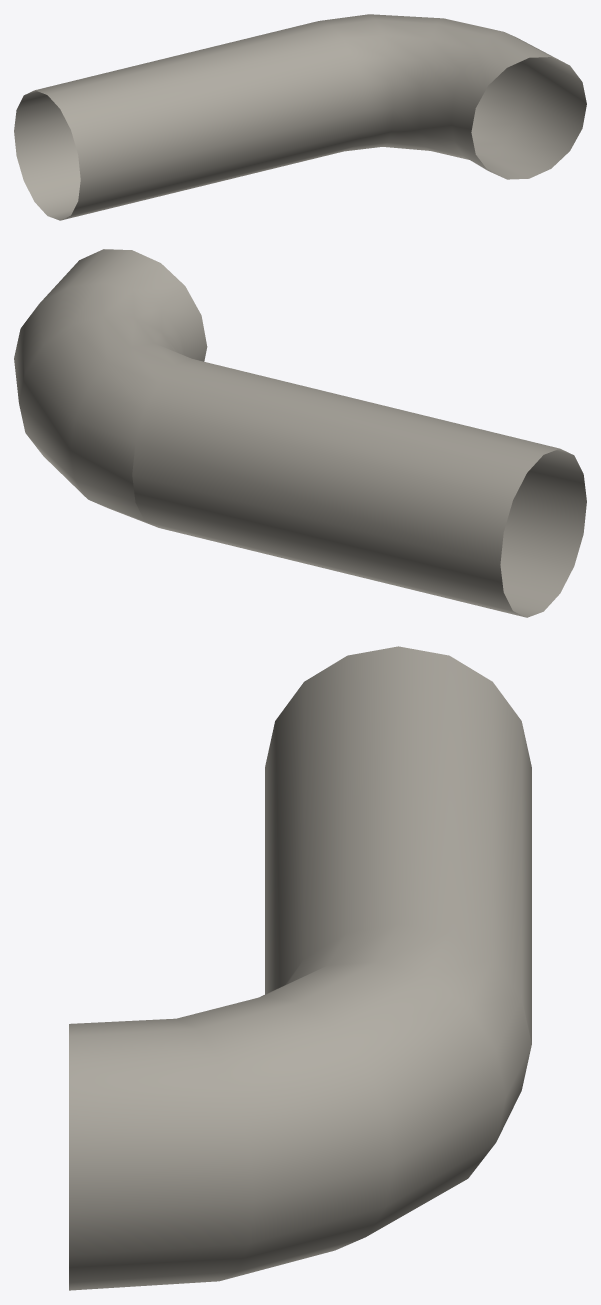
The model's file is pipe_connector_longcurve.fbx.
The picture shows the model from 3 angles, top to bottom: view 1: azimuth 30°, elevation 25°; view 2: azimuth 150°, elevation 25°; view 3: azimuth 270°, elevation 25°; orthographic projection. The views are drawn at different scales.
Visible parts, largest first — view 1: pipe_connector_longcurve; view 2: pipe_connector_longcurve; view 3: pipe_connector_longcurve.
Part boxes in pixels (bbox=[...]): pipe_connector_longcurve: bbox=[14, 14, 586, 220]; pipe_connector_longcurve: bbox=[14, 249, 586, 617]; pipe_connector_longcurve: bbox=[69, 646, 531, 1290].
Size of the model in its own units: 172 by 43.45 by 75.34.
